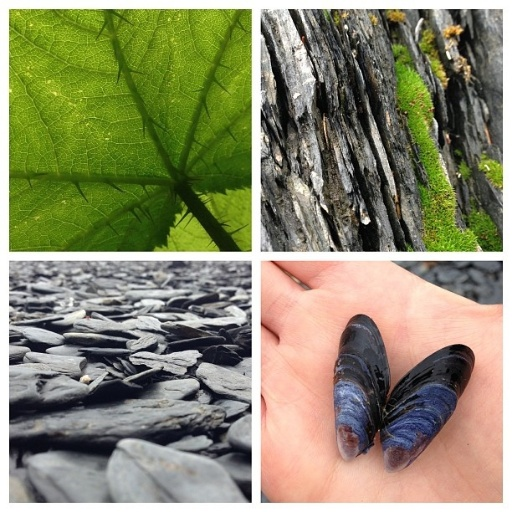hand: (250, 251, 504, 512)
